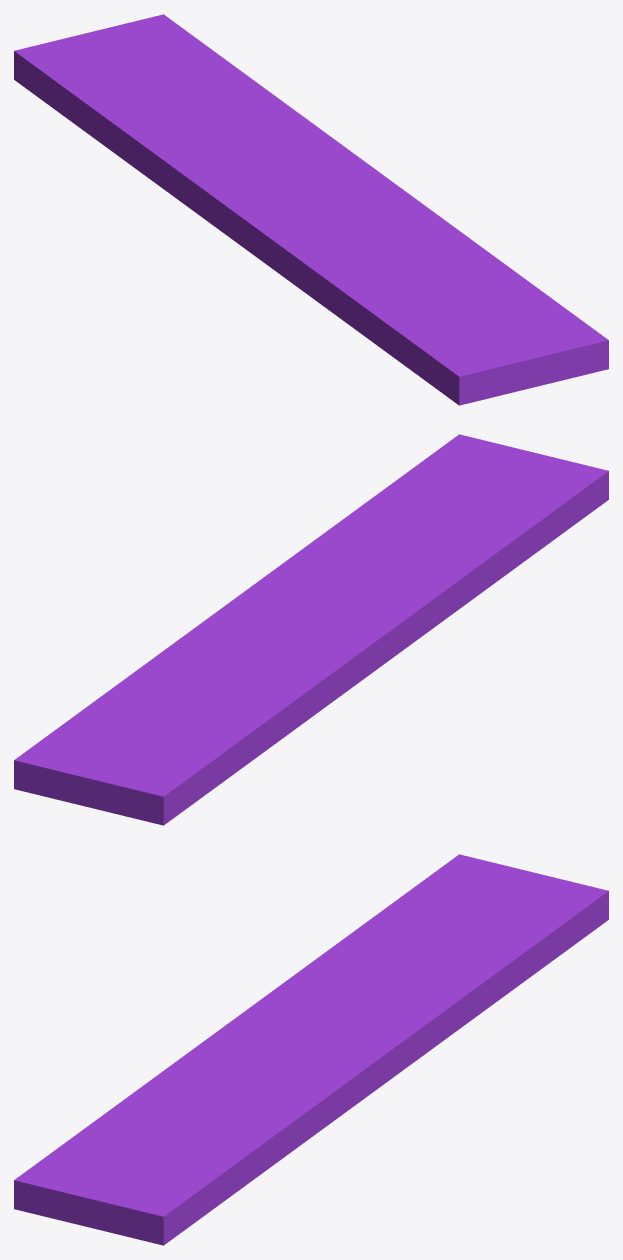
The model's file is StairsStep_88_chunks.fbx.
3 renders of one model, top to bottom at view 1: azimuth 30°, elevation 25°; view 2: azimuth 150°, elevation 25°; view 3: azimuth 330°, elevation 25°, orthographic.
Visible parts, largest first — view 1: StairsStep_88_2, StairsStep_88_0, StairsStep_88_1, StairsStep_88_3; view 2: StairsStep_88_2, StairsStep_88_0, StairsStep_88_1, StairsStep_88_3; view 3: StairsStep_88_2, StairsStep_88_0, StairsStep_88_1, StairsStep_88_3.
Part boxes in pixels (left/top/right/bottom): StairsStep_88_2: left=14, top=14, right=387, bottom=193; StairsStep_88_0: left=298, top=178, right=516, bottom=385; StairsStep_88_1: left=333, top=203, right=608, bottom=405; StairsStep_88_3: left=166, top=164, right=338, bottom=312; StairsStep_88_2: left=14, top=596, right=318, bottom=825; StairsStep_88_0: left=239, top=457, right=608, bottom=621; StairsStep_88_1: left=272, top=434, right=608, bottom=591; StairsStep_88_3: left=313, top=574, right=488, bottom=713; StairsStep_88_2: left=304, top=854, right=608, bottom=1078; StairsStep_88_0: left=14, top=1029, right=384, bottom=1194; StairsStep_88_1: left=14, top=1058, right=391, bottom=1245; StairsStep_88_3: left=155, top=968, right=309, bottom=1076.
Size of the model in its own units: 157 by 28.98 by 810.
